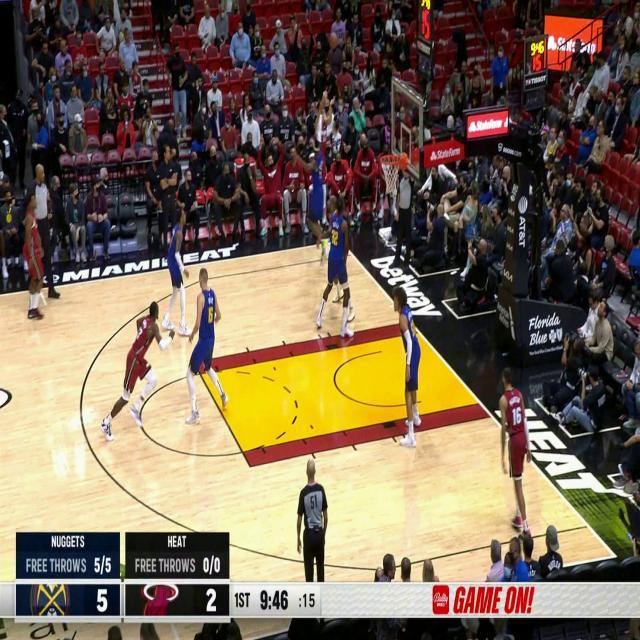rim: (328, 30, 338, 50)
